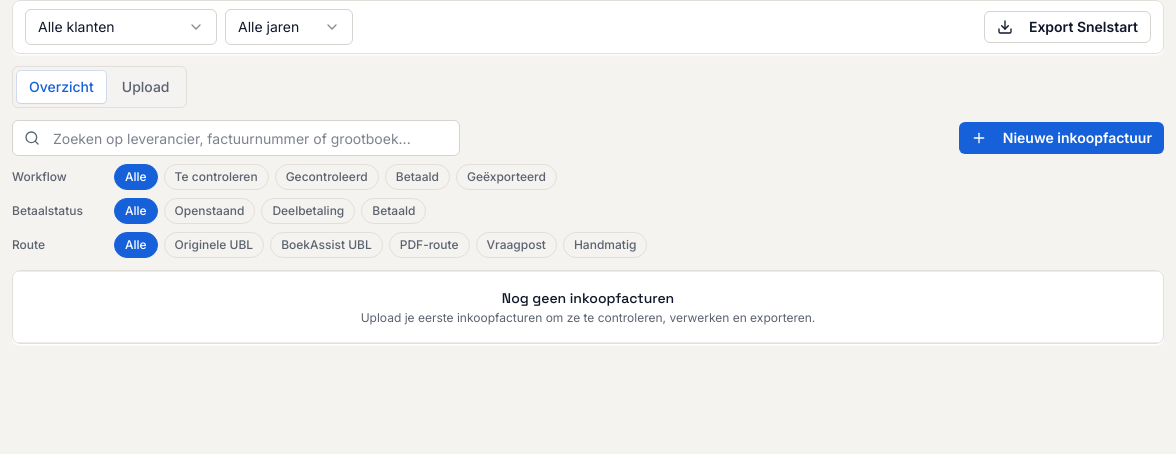
it: Inkoopfacturen — jaarselector › toont het huidige jaar en voorgaande jaren dynamisch
Click the dropdown named "Jaar" at coordinates (289, 27), box [225,9,353,45]
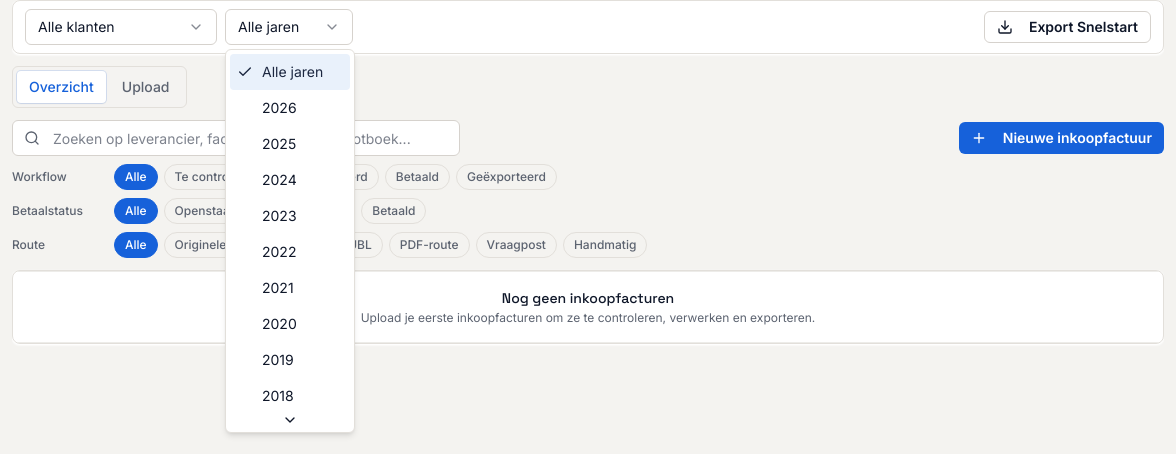
Result: the option "Alle jaren" is shown at [230,54,350,90]
Result: the option "2026" is shown at [262,99,297,116]
Result: the option "2025" is shown at [262,135,296,152]
